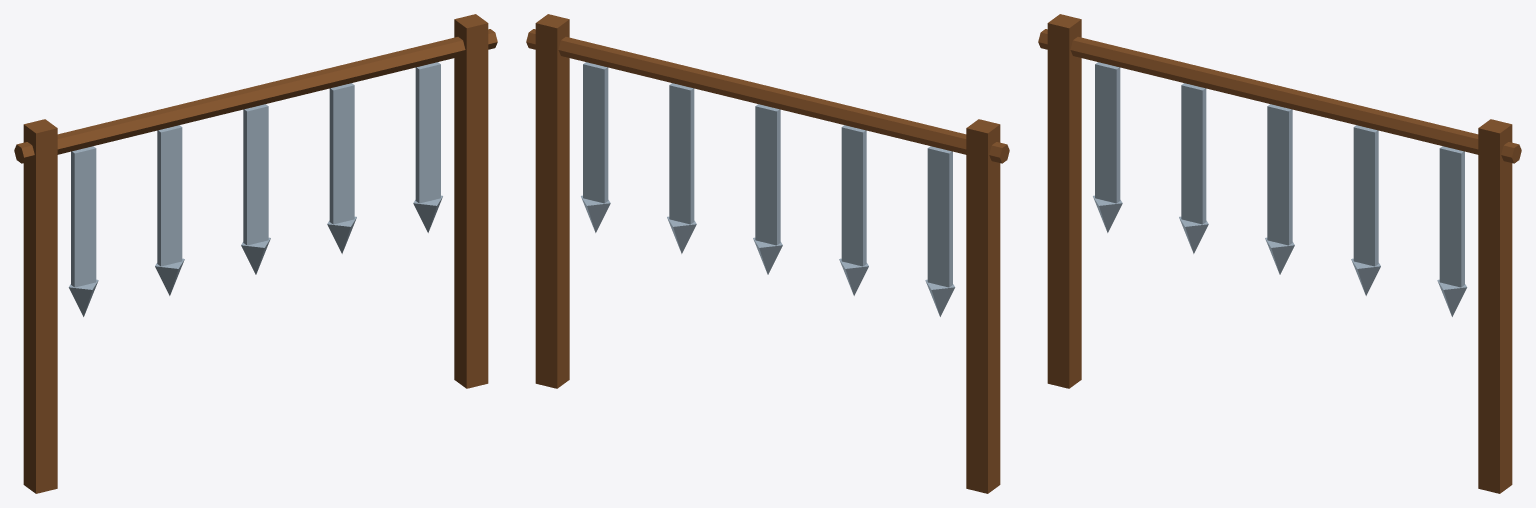
Rendered from fish_drying_rack.glb.
3 views of the same model, side by side, from view 1: azimuth 30°, elevation 25°; view 2: azimuth 150°, elevation 25°; view 3: azimuth 330°, elevation 25° (orthographic).
Visible parts, largest first — view 1: fish_drying_rack; view 2: fish_drying_rack; view 3: fish_drying_rack.
Boxes of the visible parts, x1=… form: fish_drying_rack: x1=14, y1=14, x2=497, y2=493; fish_drying_rack: x1=526, y1=14, x2=1009, y2=493; fish_drying_rack: x1=1038, y1=14, x2=1521, y2=493.
Bounding box in the file's own units: 2.2 × 1.6 × 0.14.
